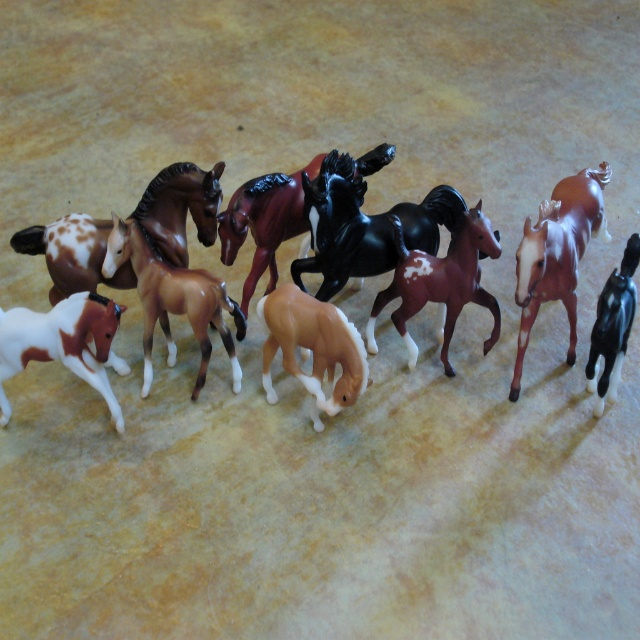Horse: (0, 143, 640, 433)
